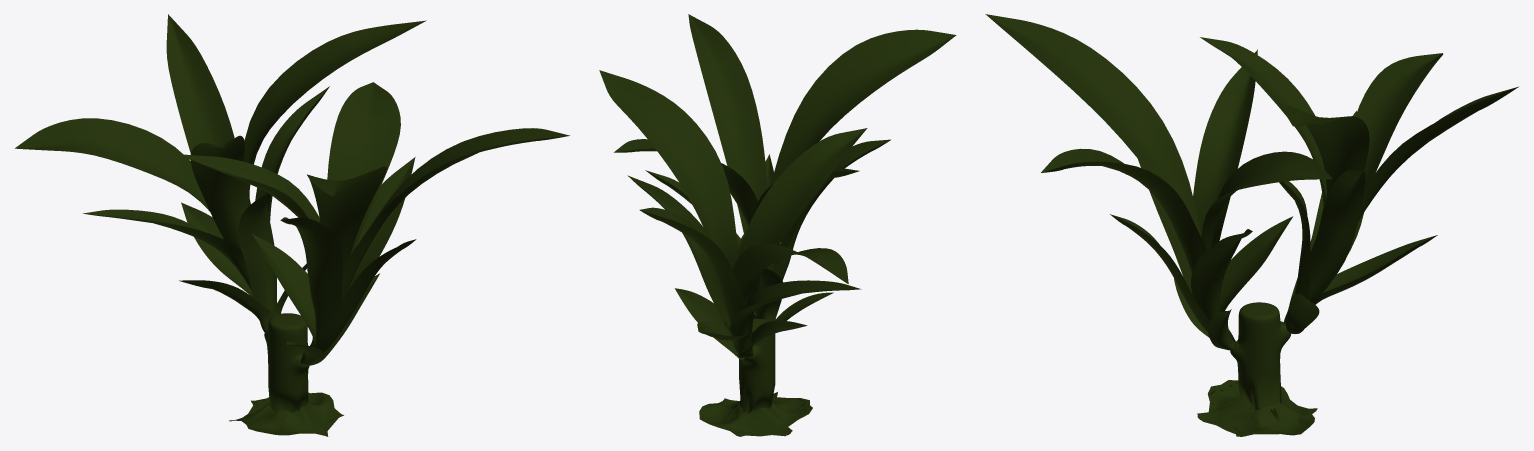
The model's file is succulent3.obj.
3 renders of one model, left to right at view 1: azimuth 30°, elevation 25°; view 2: azimuth 150°, elevation 25°; view 3: azimuth 270°, elevation 25°, orthographic. The views are drawn at different scales.
Visible parts, largest first — view 1: indoor_plant_02.004; view 2: indoor_plant_02.004; view 3: indoor_plant_02.004.
Part boxes in pixels (x1,y1,x2,y2): indoor_plant_02.004: (15, 14, 569, 436); indoor_plant_02.004: (599, 14, 956, 436); indoor_plant_02.004: (985, 14, 1518, 436).
Bounding box in the file's own units: 1.15 × 1.07 × 1.39.
